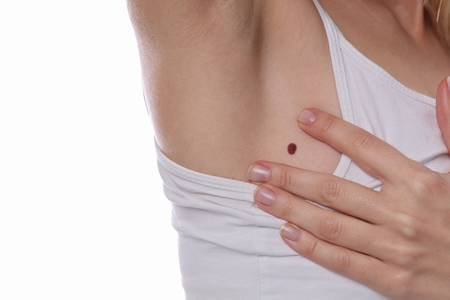mole: (281, 138, 304, 160)
